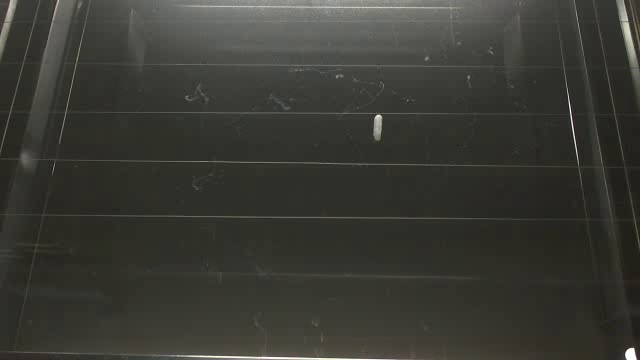Alfa: (371, 112, 384, 143)
